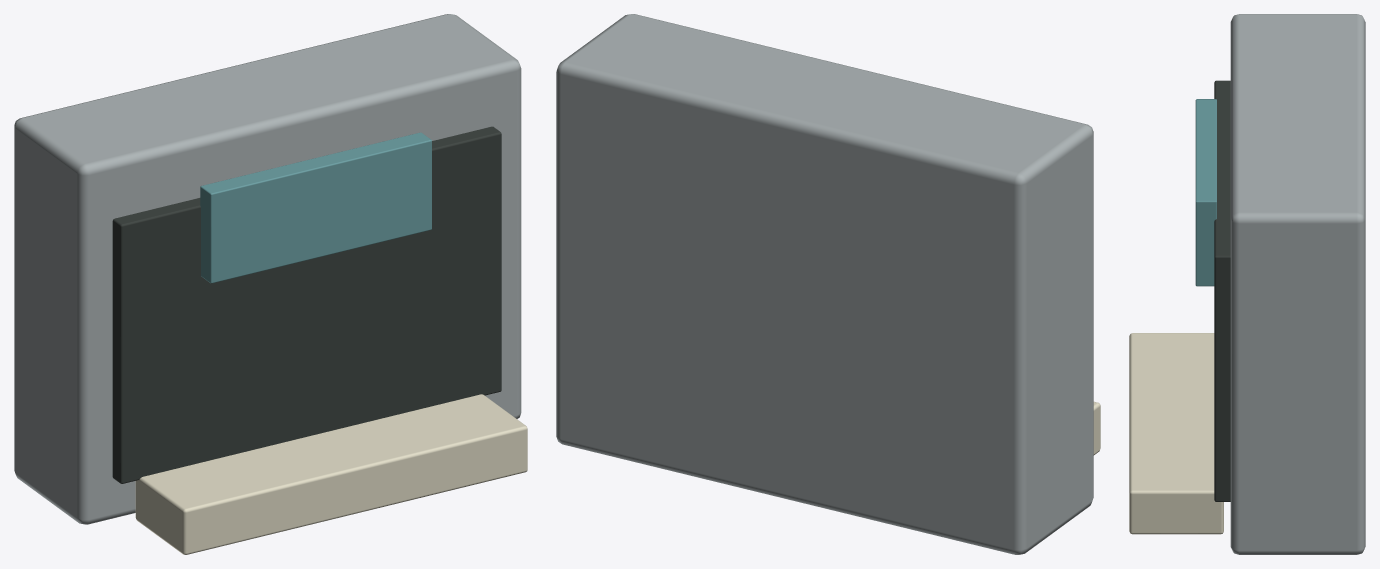
File: off-grid-power-and-controls-charge-controller-3cbc6d90__2986.glb
The picture shows the model from 3 angles, left to right: view 1: azimuth 30°, elevation 25°; view 2: azimuth 150°, elevation 25°; view 3: azimuth 270°, elevation 25°; orthographic projection. The views are drawn at different scales.
Visible parts, largest first — view 1: charge-controller; view 2: charge-controller; view 3: charge-controller.
Part boxes in pixels (x1,y1,x2,y2): charge-controller: (14, 14, 527, 554); charge-controller: (556, 14, 1100, 554); charge-controller: (1129, 14, 1365, 554).
Bounding box in the file's own units: 0.18 × 0.14 × 0.0875.
